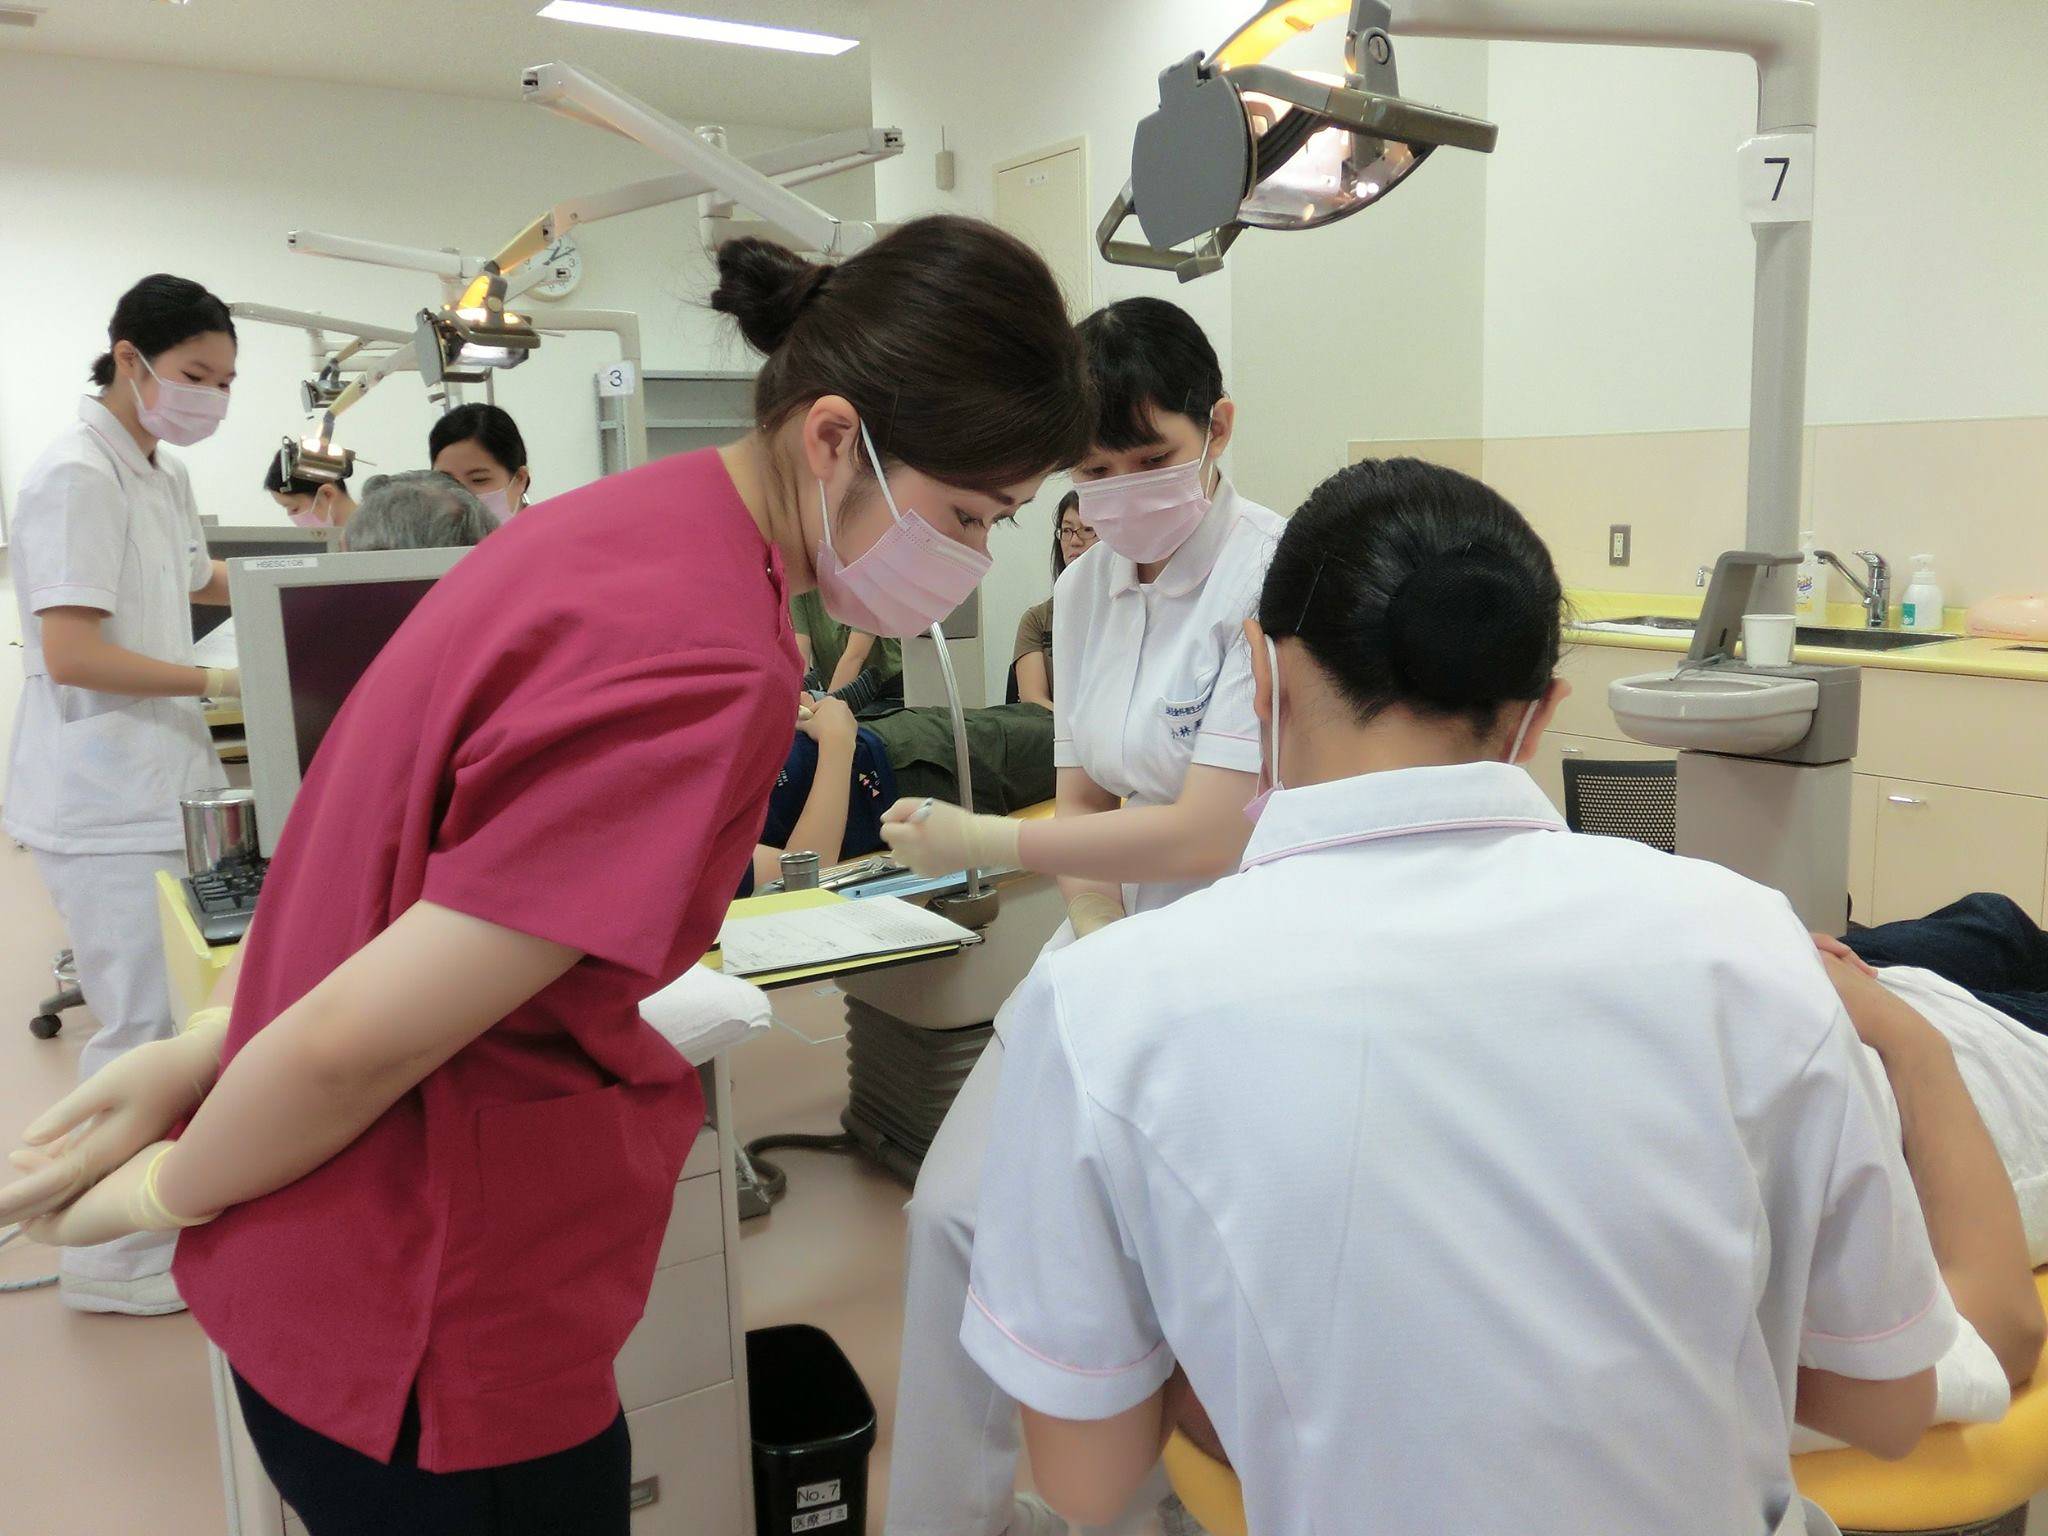mask: (814, 513, 992, 636), (1076, 460, 1216, 565), (134, 386, 232, 445)
